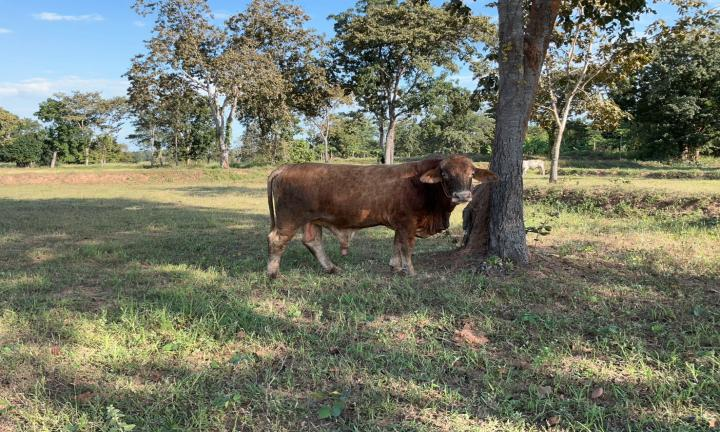Charolais: (268, 155, 499, 277)
